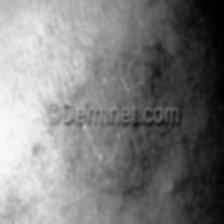Non-Cancerous Skin Condition: (45, 45, 166, 204)
